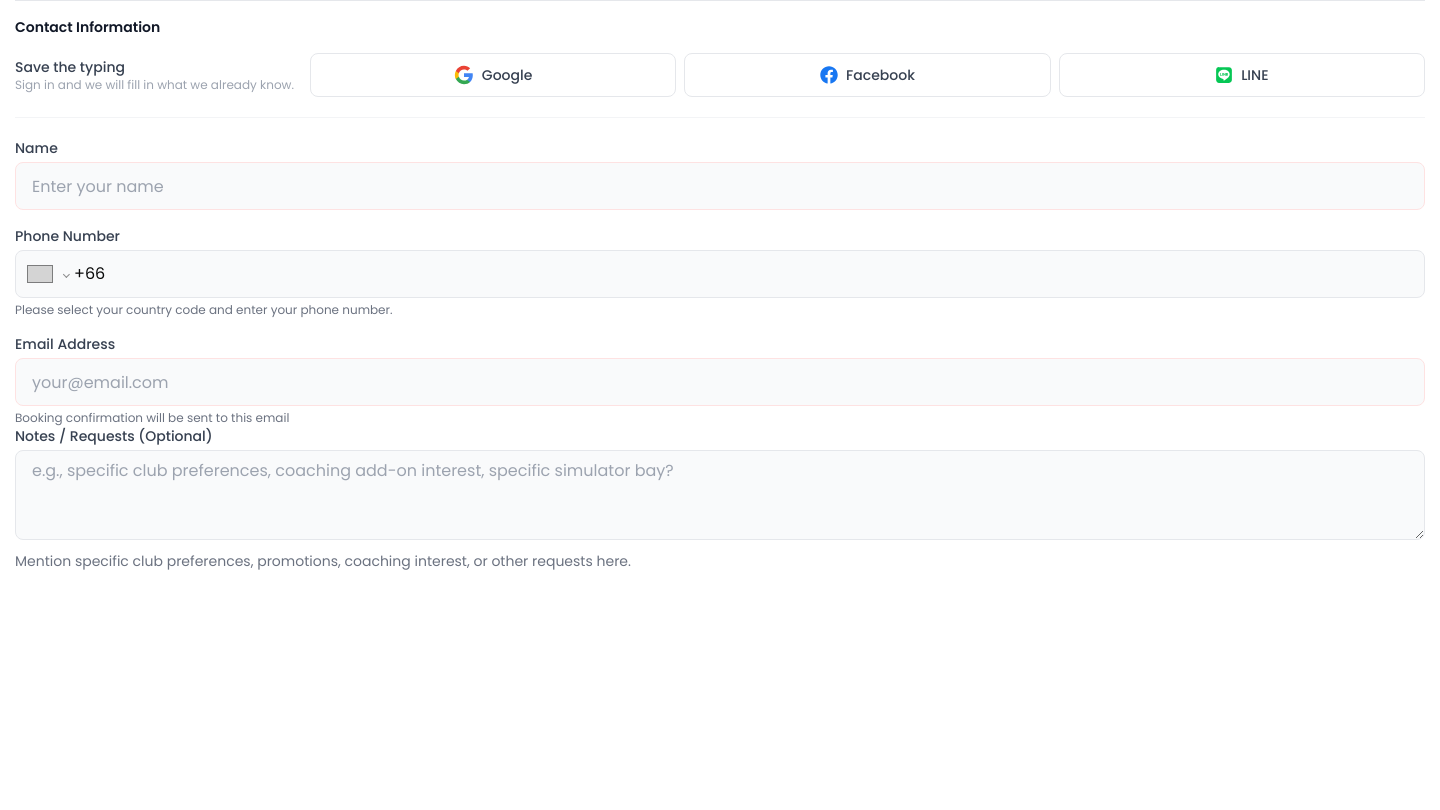
the contact inputs survive being typed into › does not swap the inputs out at the moment the address first parses
The width and height of the screenshot is (1440, 810).
Type "Tyler Takechi" into the field with placeholder "Enter your name" at [720, 186], box [15,162,1425,210]
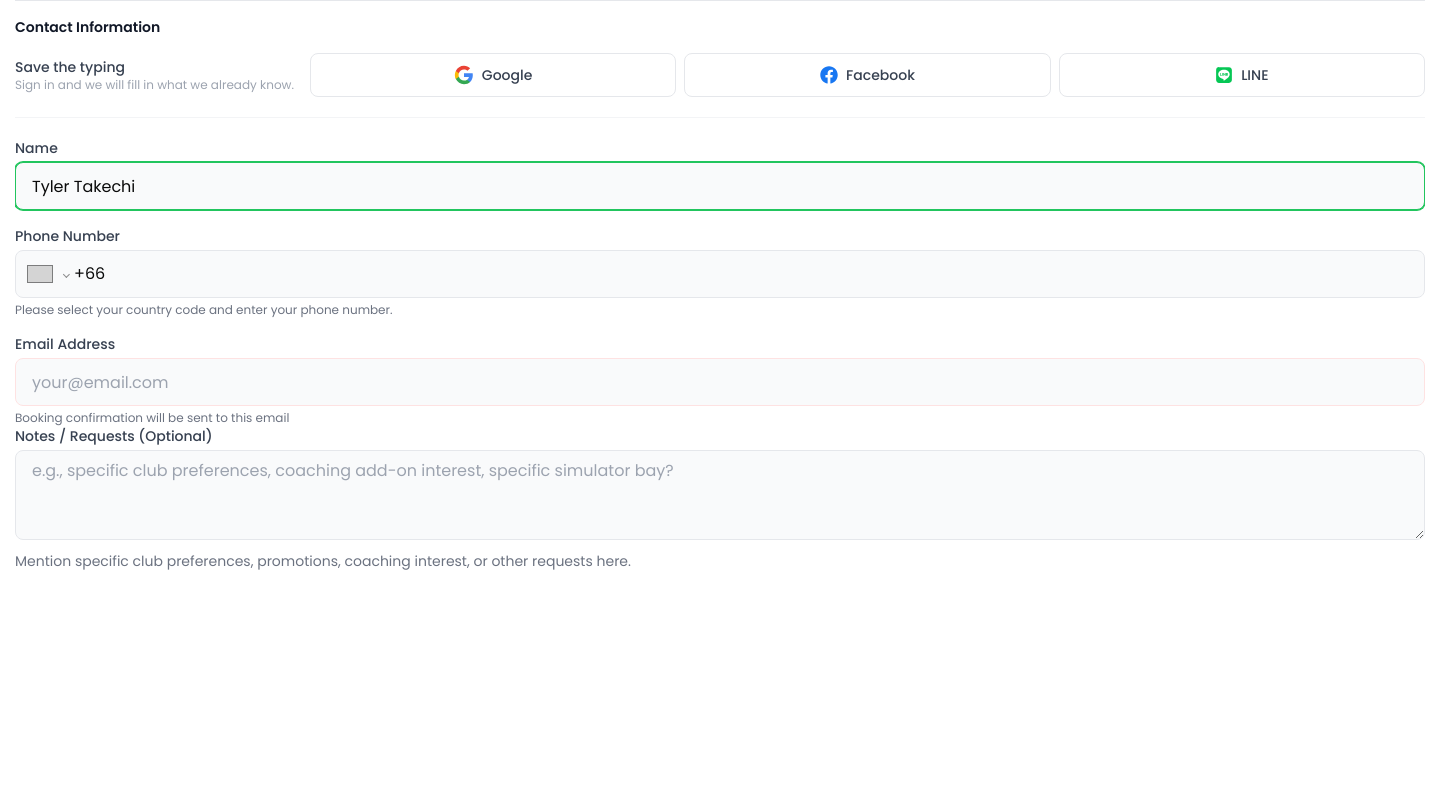
Type "842695447" into the 2nd field at [743, 274], box [74,254,1412,294]
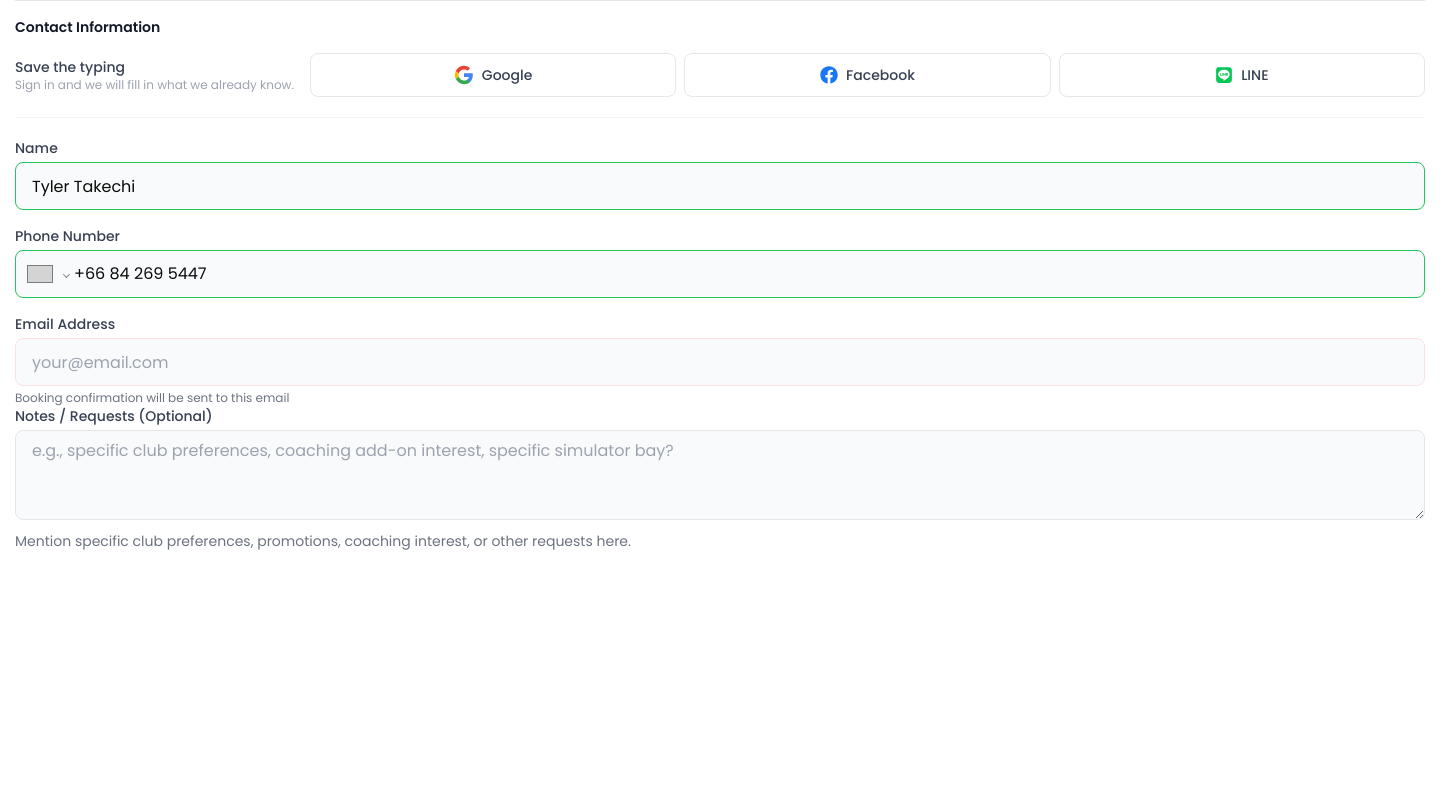
Type "twylerlp@gmail.c" into the field with placeholder "your@email.com" at [720, 362], box [15,338,1425,386]
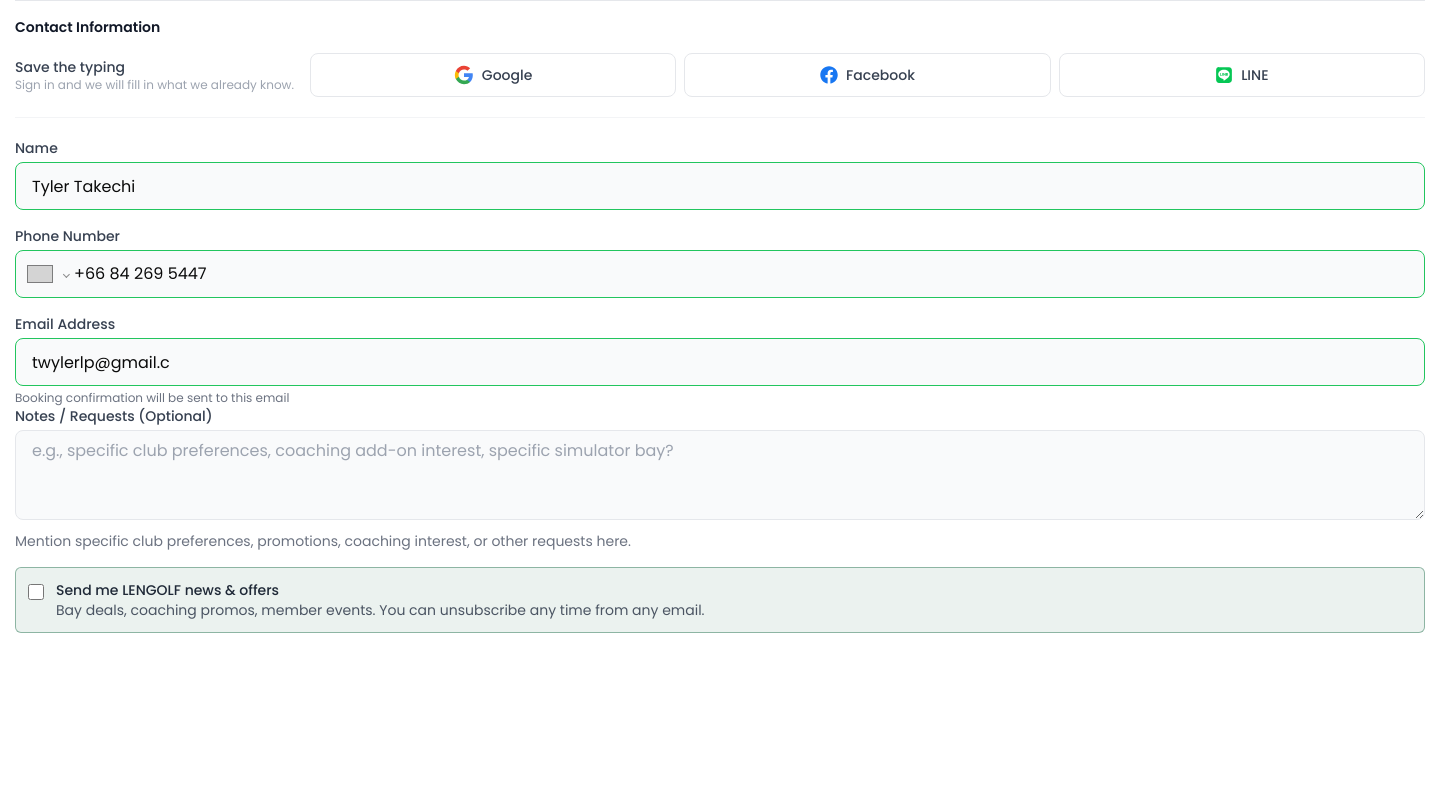
Type "om" into the field below "Email Address" at [720, 362], box [15,338,1425,386]
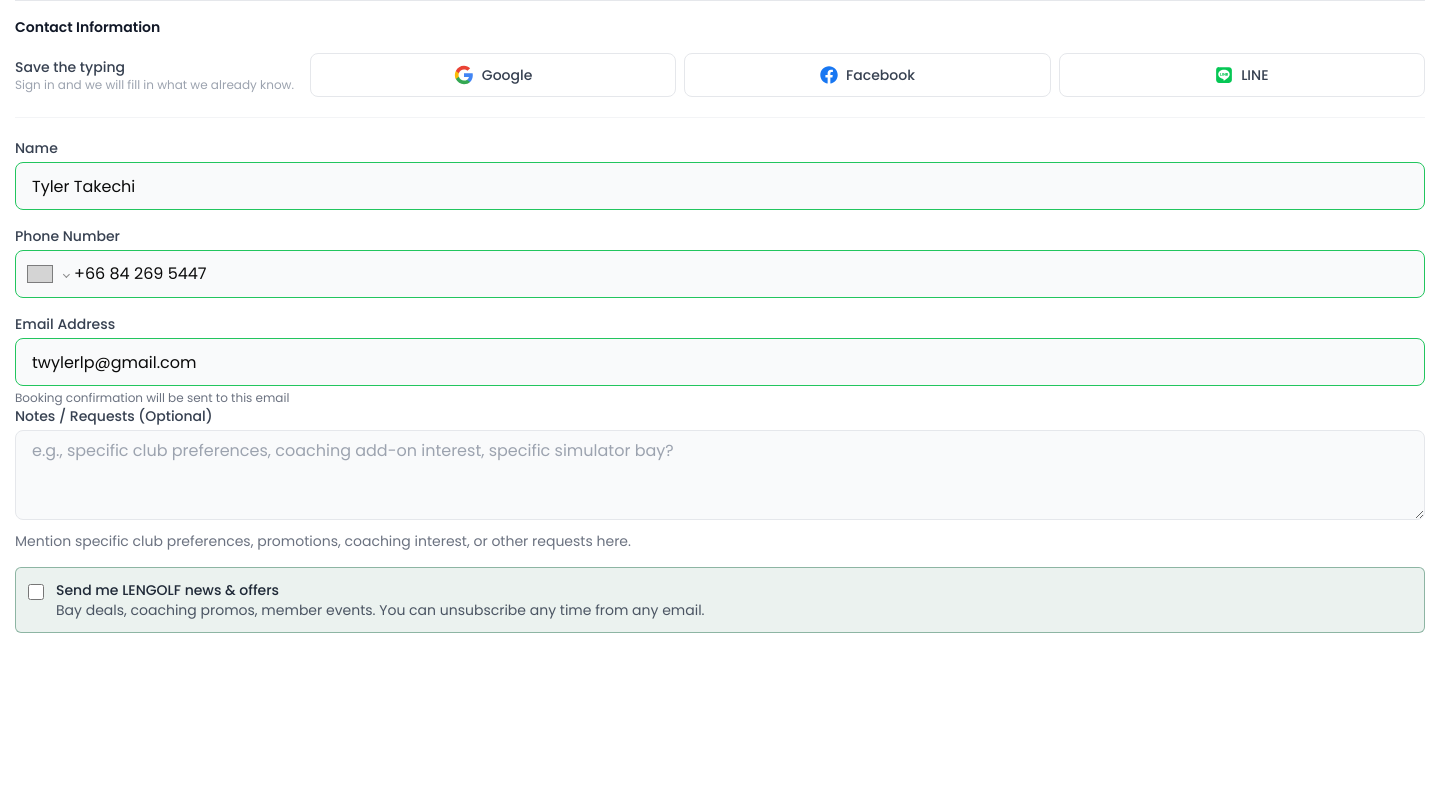
Expected: the field below "Email Address" holds "twylerlp@gmail.com", [15,338,1425,386]
